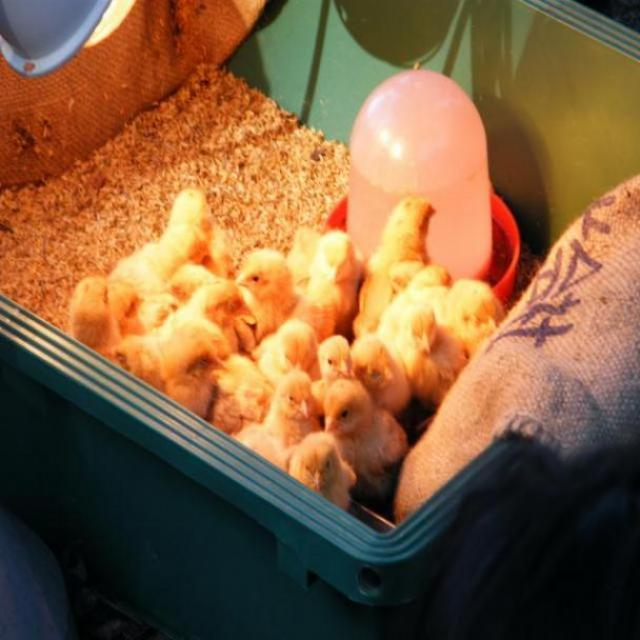Chicken: (343, 196, 442, 340)
